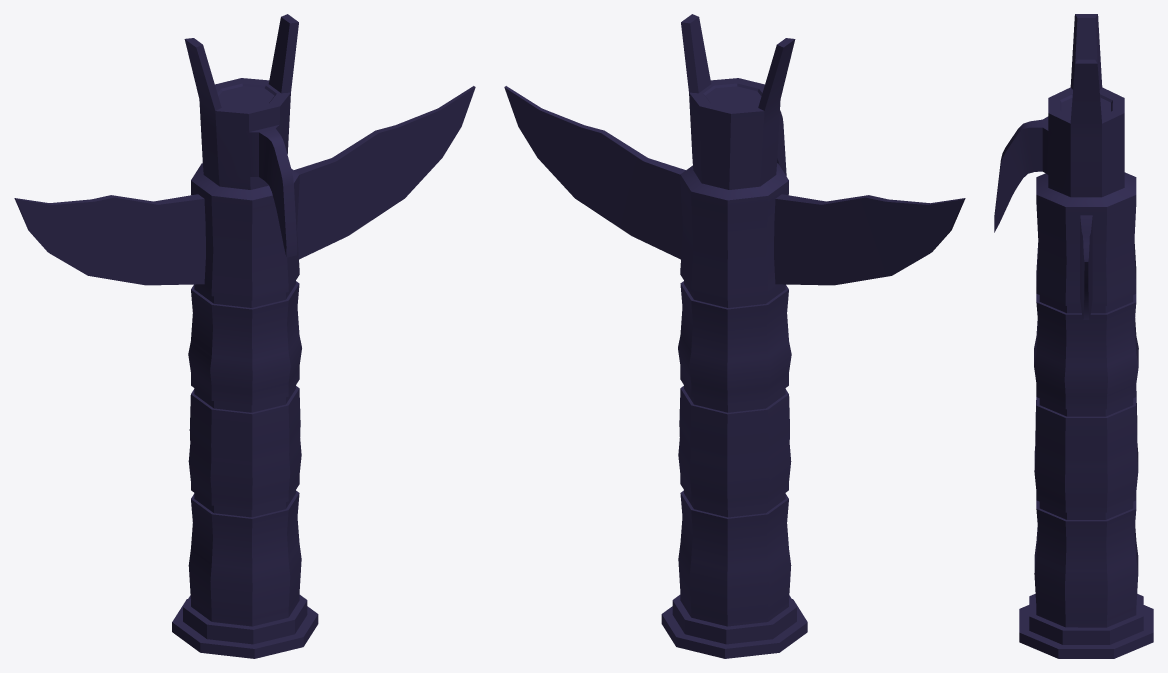
The model's file is Totem_03.fbx.
3 views of the same model, side by side, from view 1: azimuth 30°, elevation 25°; view 2: azimuth 150°, elevation 25°; view 3: azimuth 270°, elevation 25° (orthographic).
Visible parts, largest first — view 1: Totem; view 2: Totem; view 3: Totem.
Part boxes in pixels (x1,y1,x2,y2): Totem: (14,14,475,658); Totem: (504,14,965,658); Totem: (994,14,1153,658).
Size of the model in its own units: 104 by 129 by 31.55.
